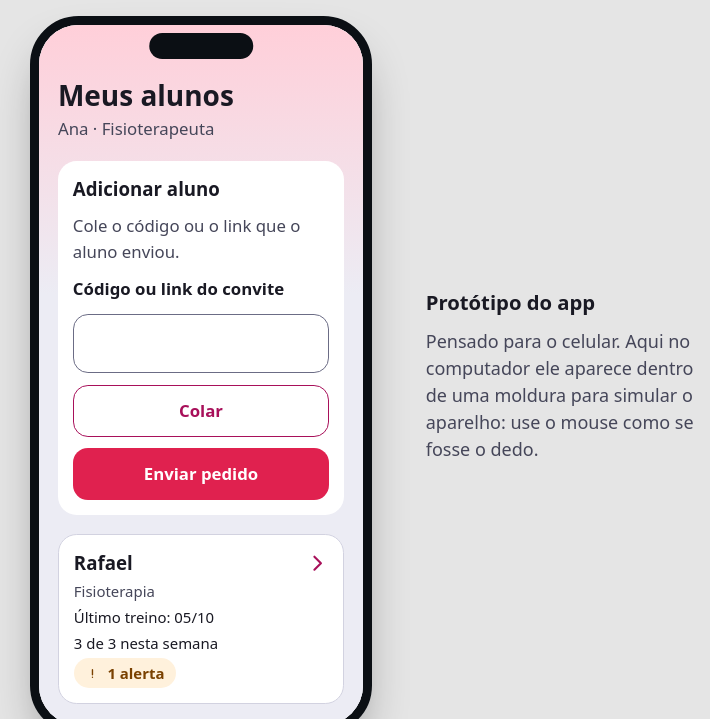
Test case: botão Colar › se a leitura falhar, ensina a colar com toque longo no campo
Click the button "Colar".
click(201, 411)  # box [73,385,329,437]
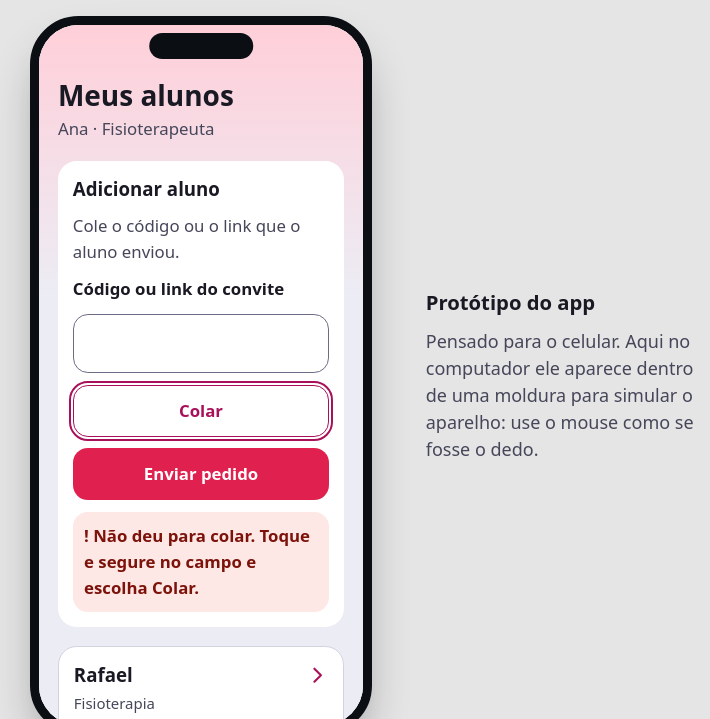
Check: the message shows "Não deu para colar. Toque e segure no campo e escolha Colar.", box [84,524,310,599]
